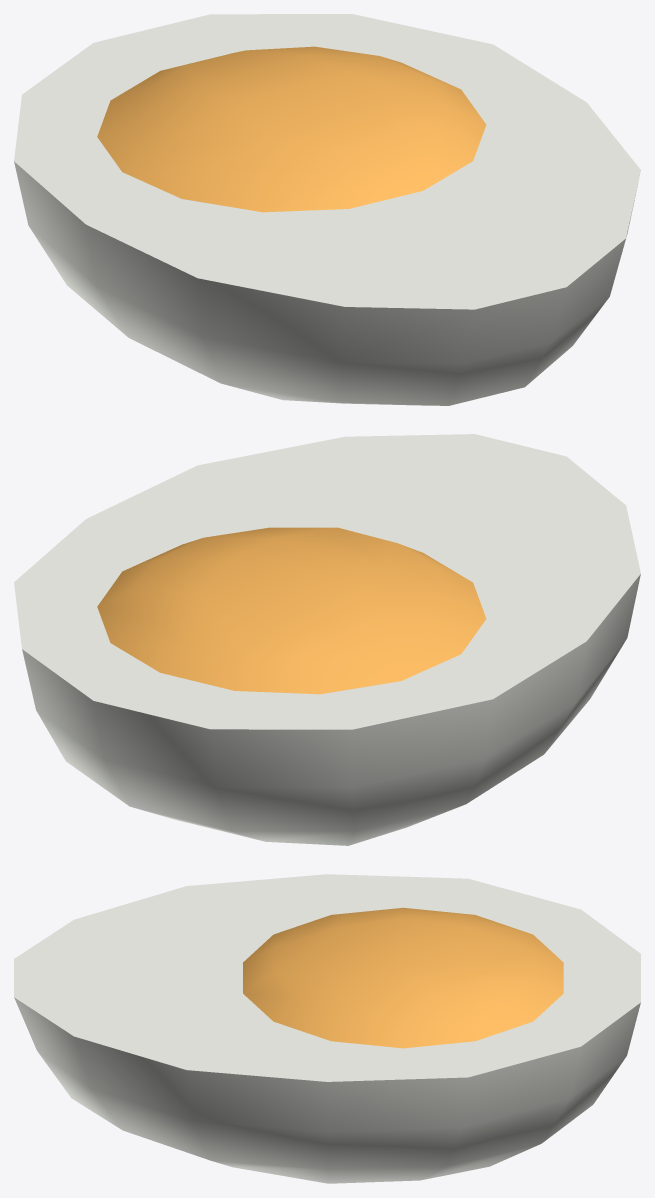
Rendered from Egg_boiled_geo.fbx.
3 views of the same model, one above another, from view 1: azimuth 30°, elevation 25°; view 2: azimuth 150°, elevation 25°; view 3: azimuth 270°, elevation 25° (orthographic). The views are drawn at different scales.
Parts seen in each view (by area): view 1: Egg_boiled_geo; view 2: Egg_boiled_geo; view 3: Egg_boiled_geo.
Part boxes in pixels (x1=…): Egg_boiled_geo: x1=14, y1=14, x2=640, y2=405; Egg_boiled_geo: x1=14, y1=434, x2=640, y2=845; Egg_boiled_geo: x1=14, y1=874, x2=640, y2=1183.
Bounding box in the file's own units: 0.276 × 0.3519 × 0.1283.
